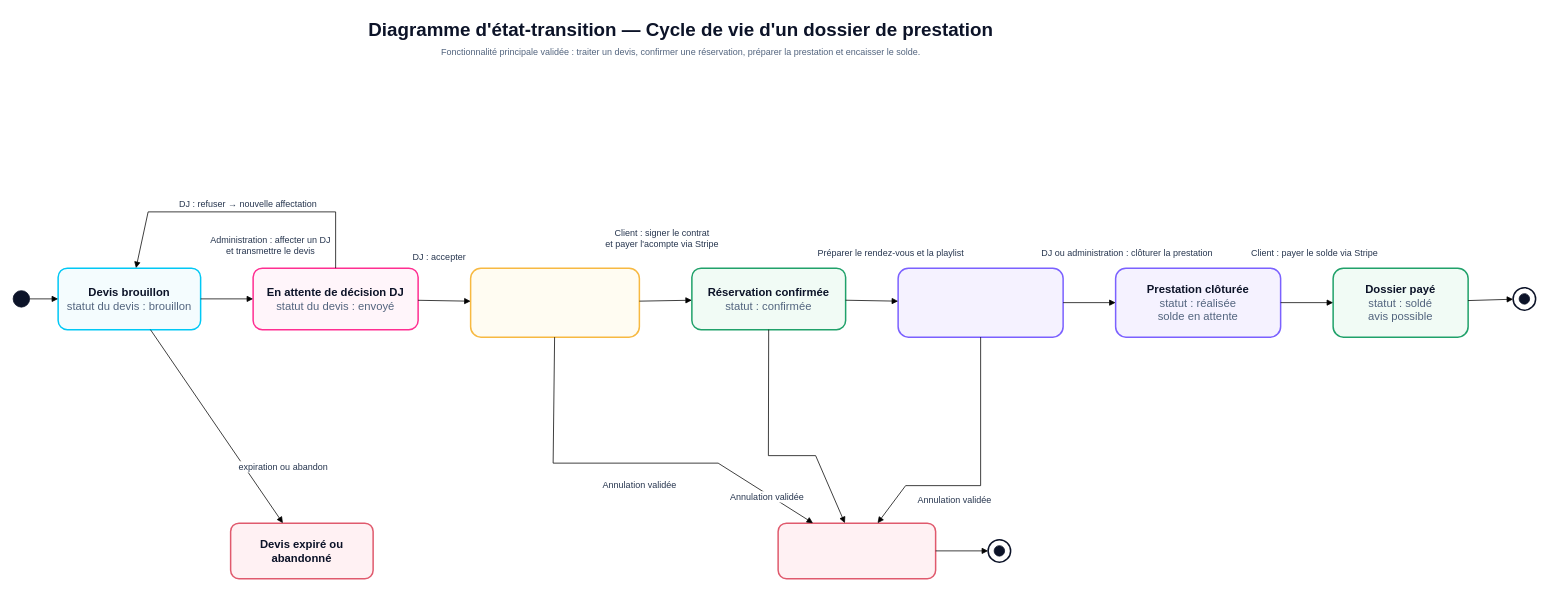
The diagram is 1550 pixels wide and 592 high, and some of its shapes have lost their labels. The shapes that lost their labels are listed below. From the top down, each one's centre as x and y in pixels, then its label:
pixel 555 302: Contrat et acompte en attente devis accepté réservation créée
pixel 980 302: Préparation de la prestation rendez-vous et playlist
pixel 856 550: Réservation annulée créneau DJ libéré
